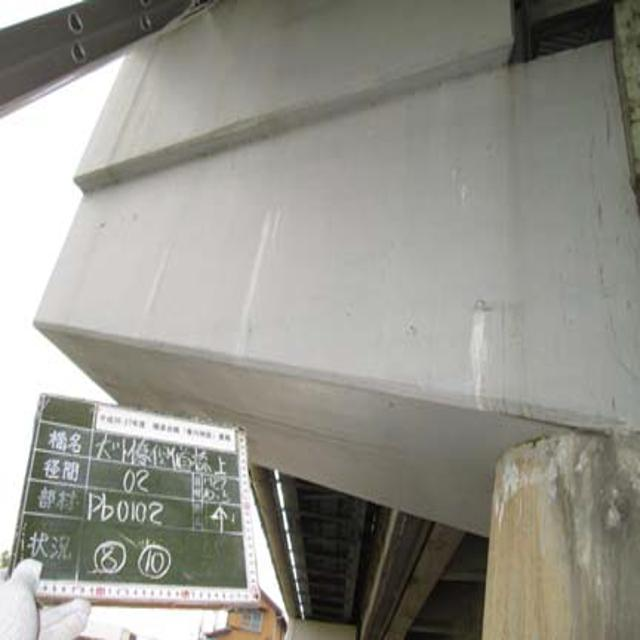freelime: (487, 432, 630, 568), (452, 297, 492, 413)
